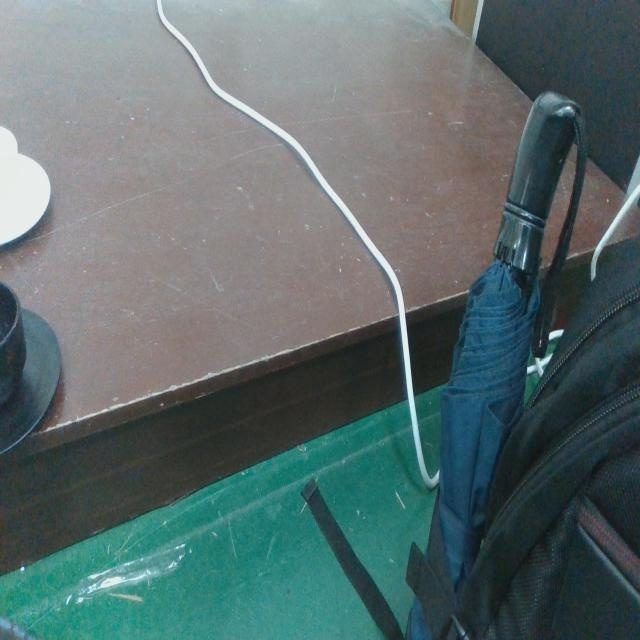black: (0, 275, 64, 459)
white: (0, 120, 53, 252)
